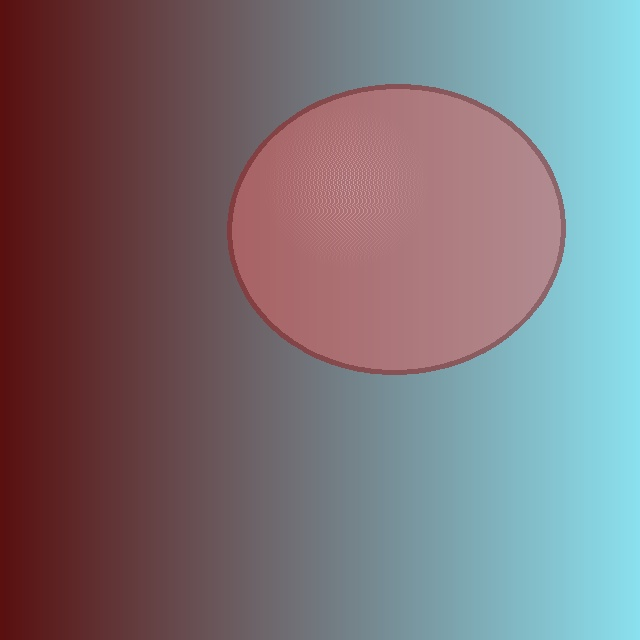lens: (229, 86, 563, 372)
